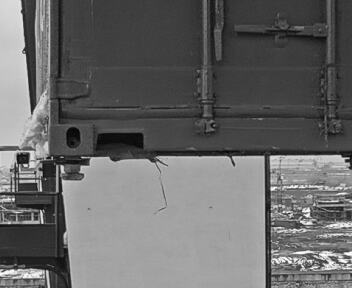twist_lock_1: (48, 150, 96, 187)
